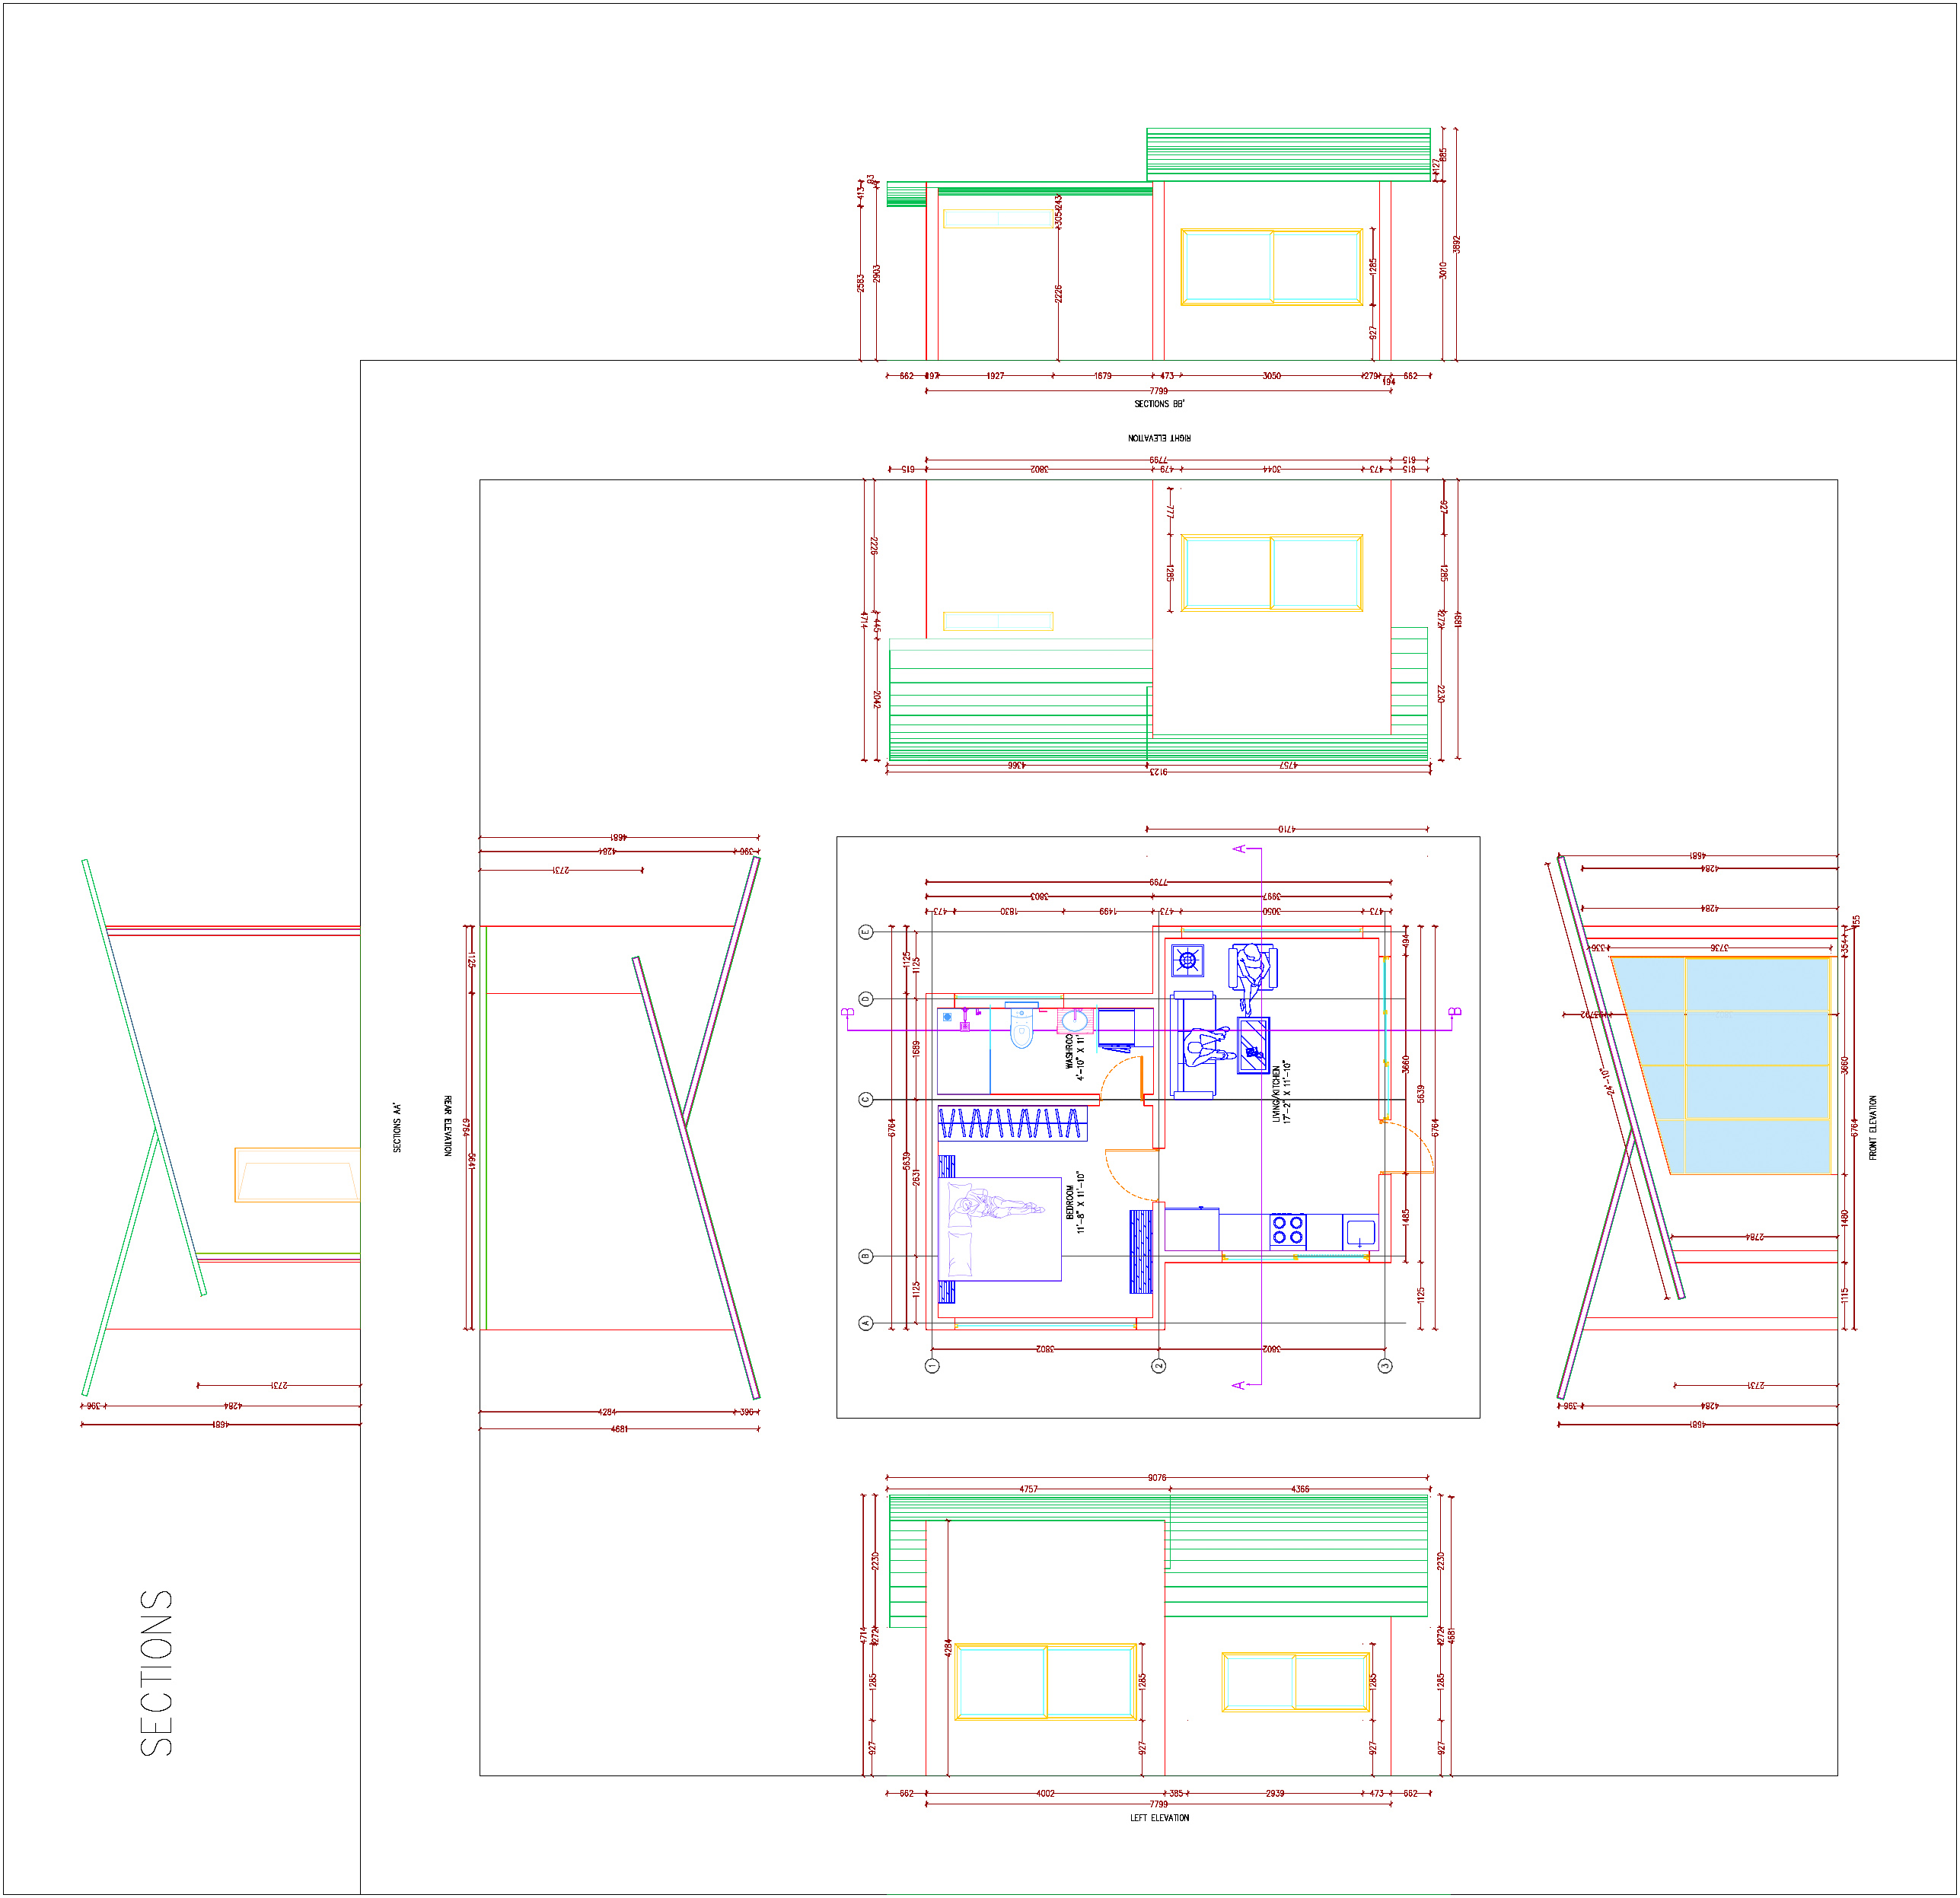door: (1377, 1116, 1437, 1177), (1106, 1146, 1160, 1205), (1099, 1051, 1144, 1102)
